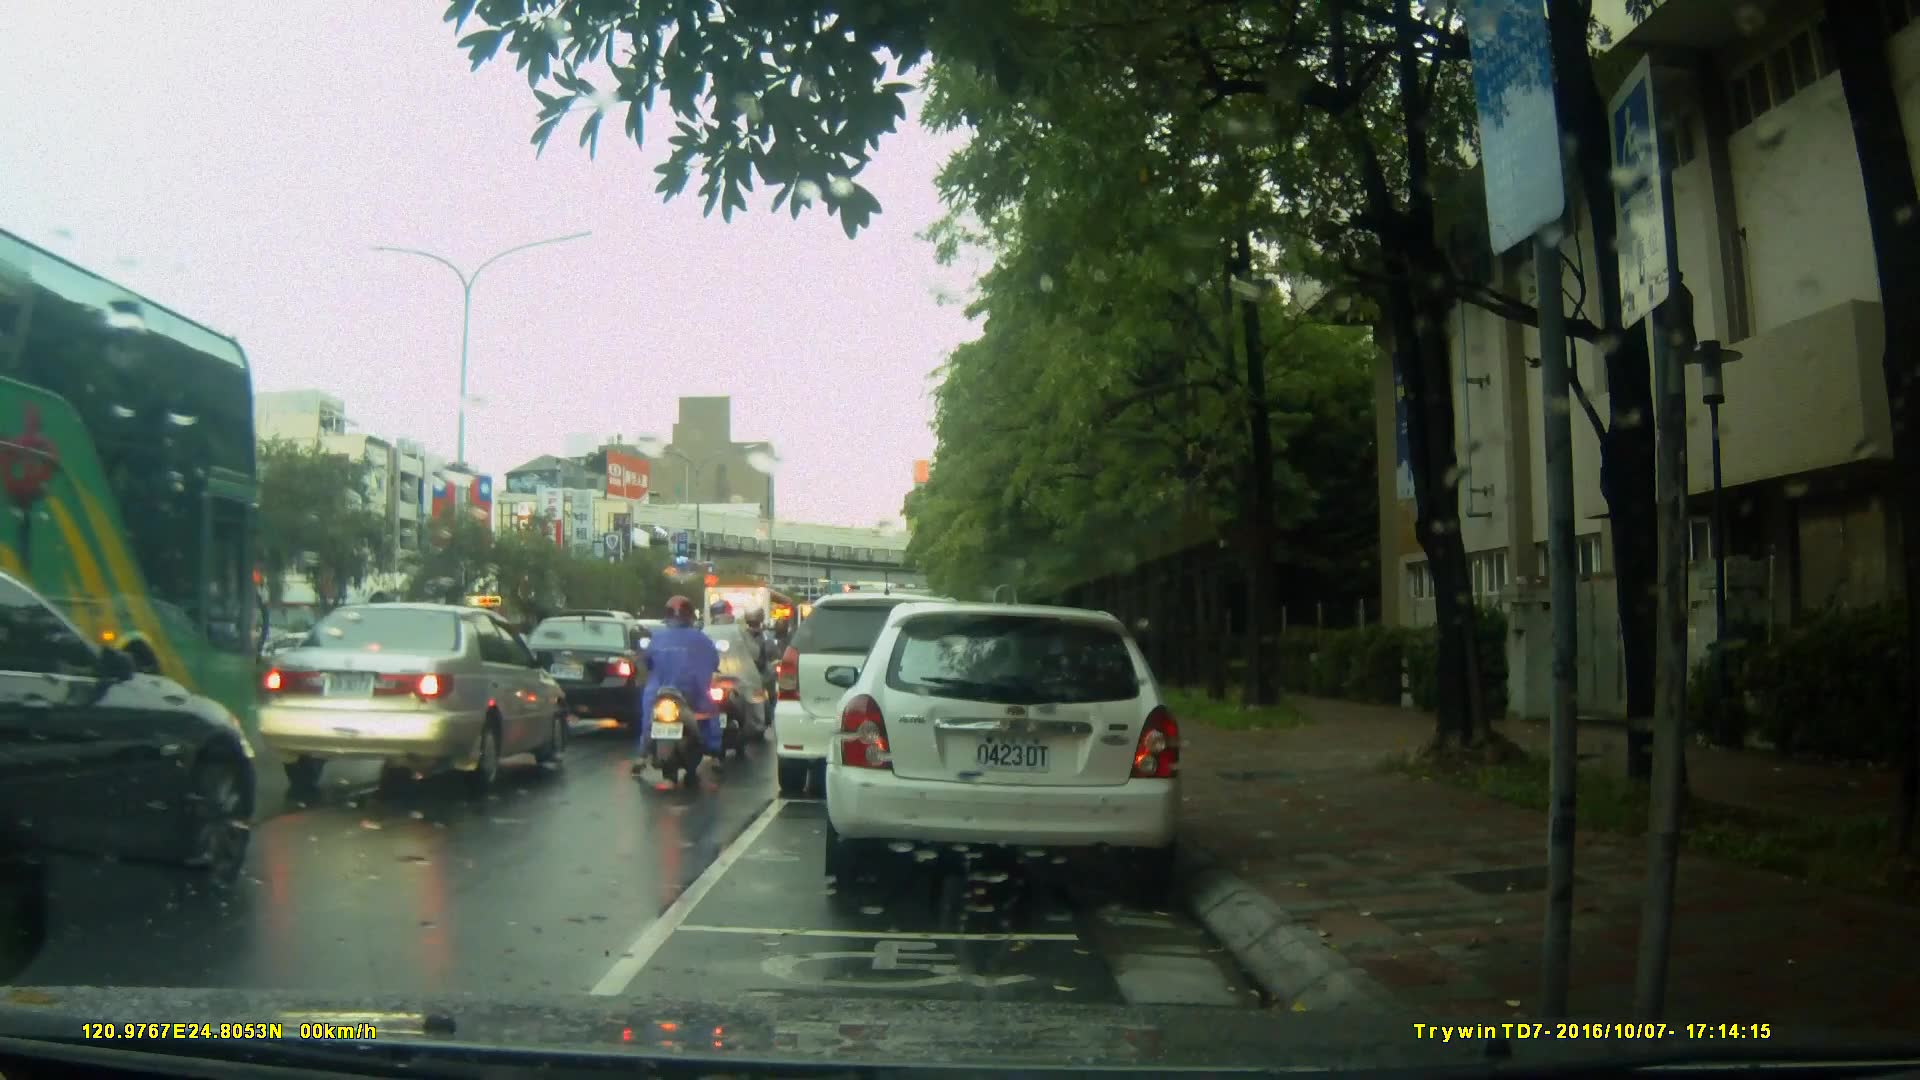rider: (624, 592, 731, 788), (699, 593, 769, 757)
vehicle: (1, 220, 301, 722), (831, 592, 1196, 897), (247, 600, 572, 798), (770, 592, 999, 799), (502, 613, 683, 736), (694, 582, 806, 706)
